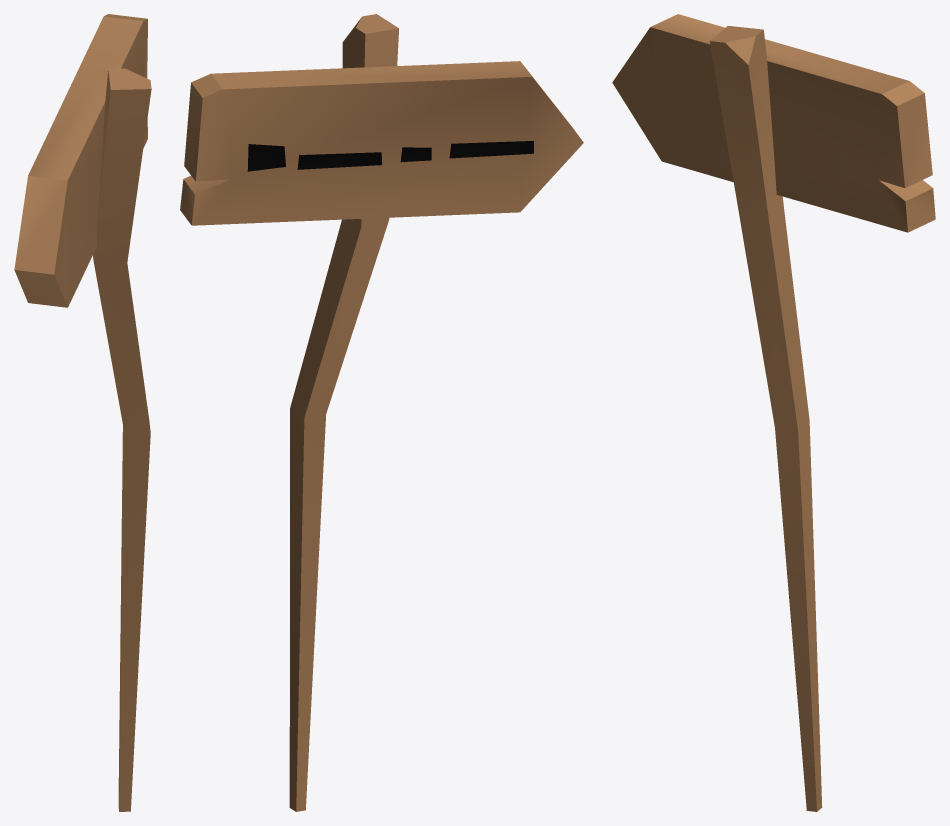
File: mdl_sign.fbx
3 renders of one model, left to right at view 1: azimuth 30°, elevation 25°; view 2: azimuth 150°, elevation 25°; view 3: azimuth 270°, elevation 25°, orthographic.
Parts seen in each view (by area): view 1: mdl_sign; view 2: mdl_sign; view 3: mdl_sign.
Boxes of the visible parts, x1=… form: mdl_sign: x1=14, y1=14, x2=151, y2=811; mdl_sign: x1=180, y1=14, x2=583, y2=811; mdl_sign: x1=612, y1=14, x2=935, y2=811.
Size of the model in its own units: 1.9 by 5.19 by 2.
